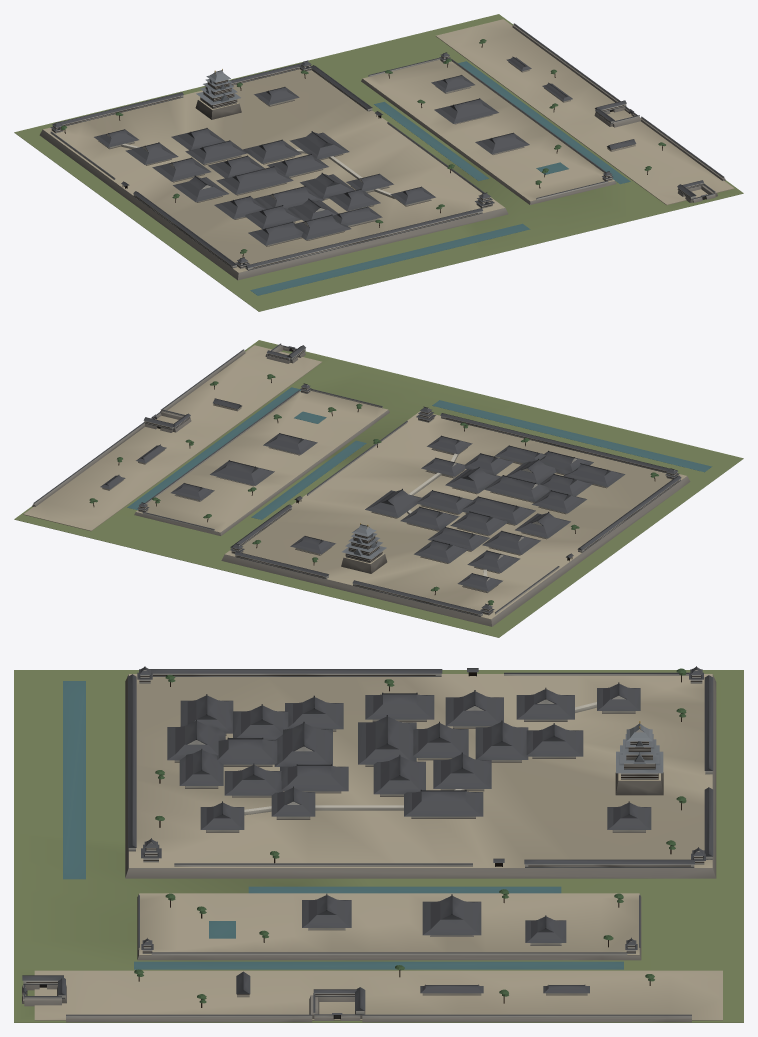
Rendered from edo-castle-1610.glb.
3 renders of one model, top to bottom at view 1: azimuth 30°, elevation 25°; view 2: azimuth 150°, elevation 25°; view 3: azimuth 270°, elevation 25°, orthographic. The views are drawn at different scales.
Parts seen in each view (by area): view 1: p0_ishigaki, p2_palaces, p1_walls, p3_keep; view 2: p0_ishigaki, p2_palaces, p1_walls, p3_keep; view 3: p0_ishigaki, p2_palaces, p1_walls, p3_keep.
Boxes of the visible parts, x1,y1,x2,y2 form: p0_ishigaki: (14, 14, 743, 311); p2_palaces: (61, 39, 665, 257); p1_walls: (50, 23, 725, 270); p3_keep: (196, 69, 240, 108); p0_ishigaki: (14, 340, 743, 637); p2_palaces: (89, 374, 658, 605); p1_walls: (32, 343, 681, 616); p3_keep: (342, 523, 386, 562); p0_ishigaki: (14, 670, 743, 1022); p2_palaces: (134, 668, 686, 1007); p1_walls: (22, 666, 713, 1022); p3_keep: (616, 721, 663, 779).
Size of the model in its own units: 800 by 74.07 by 700.
